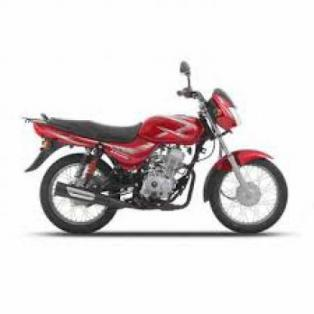Motocicleta: (17, 55, 295, 243)
